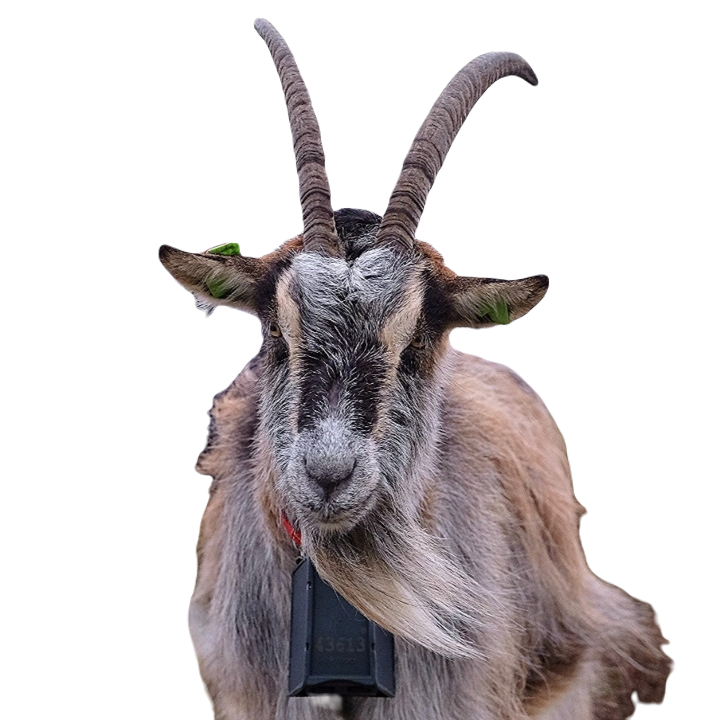Goat: (155, 16, 670, 719)
